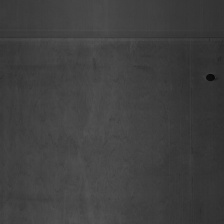punching_hole: (2, 55, 181, 217), (1, 26, 221, 47), (205, 72, 217, 83)
